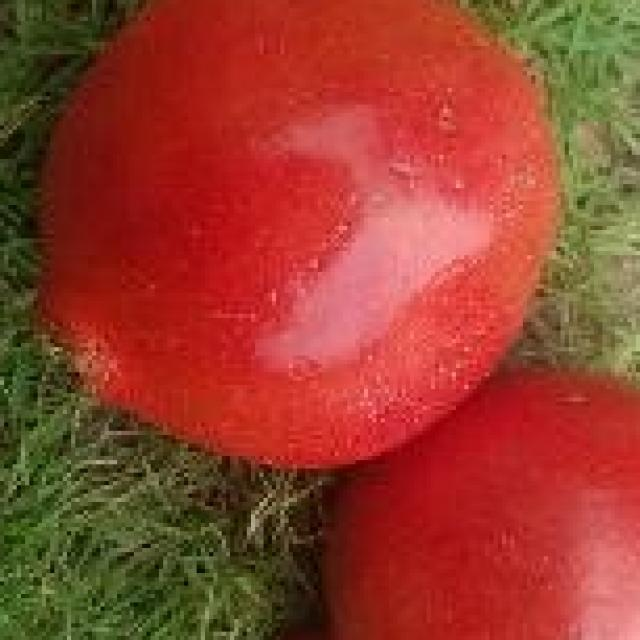Good_Pomegranate-50-60-days: (33, 0, 640, 640)
